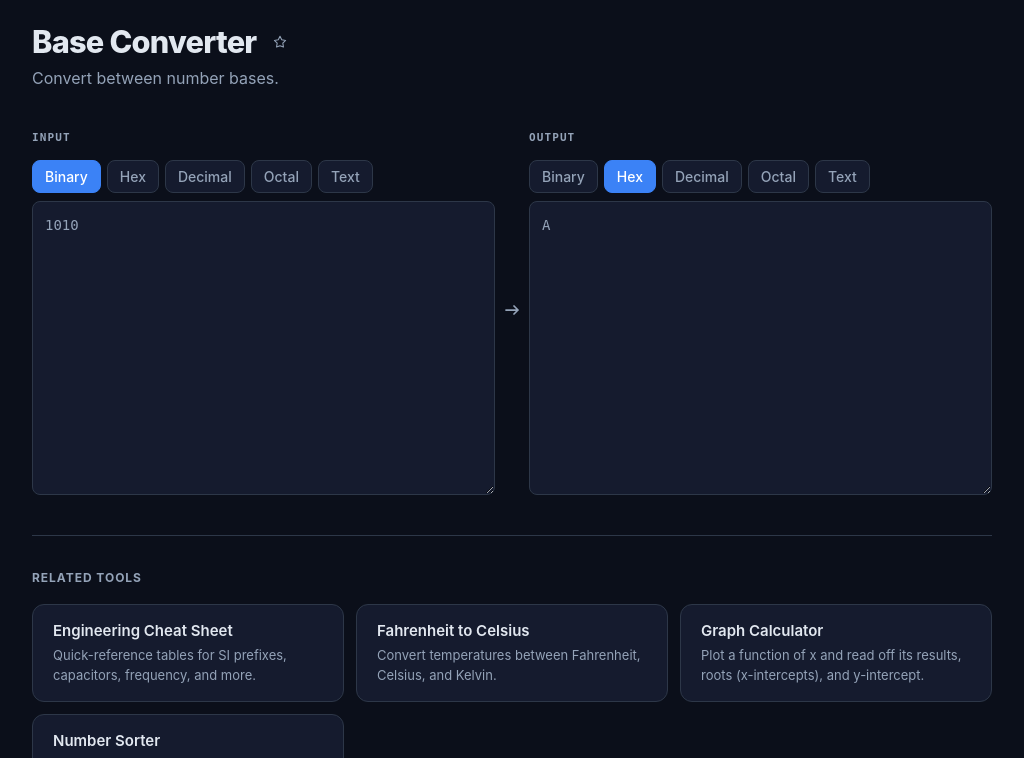
BaseConverter › shows error for invalid binary input
The image size is (1024, 758).
Click the button "Binary" below "Input" at (66, 176), box [32,160,101,193]
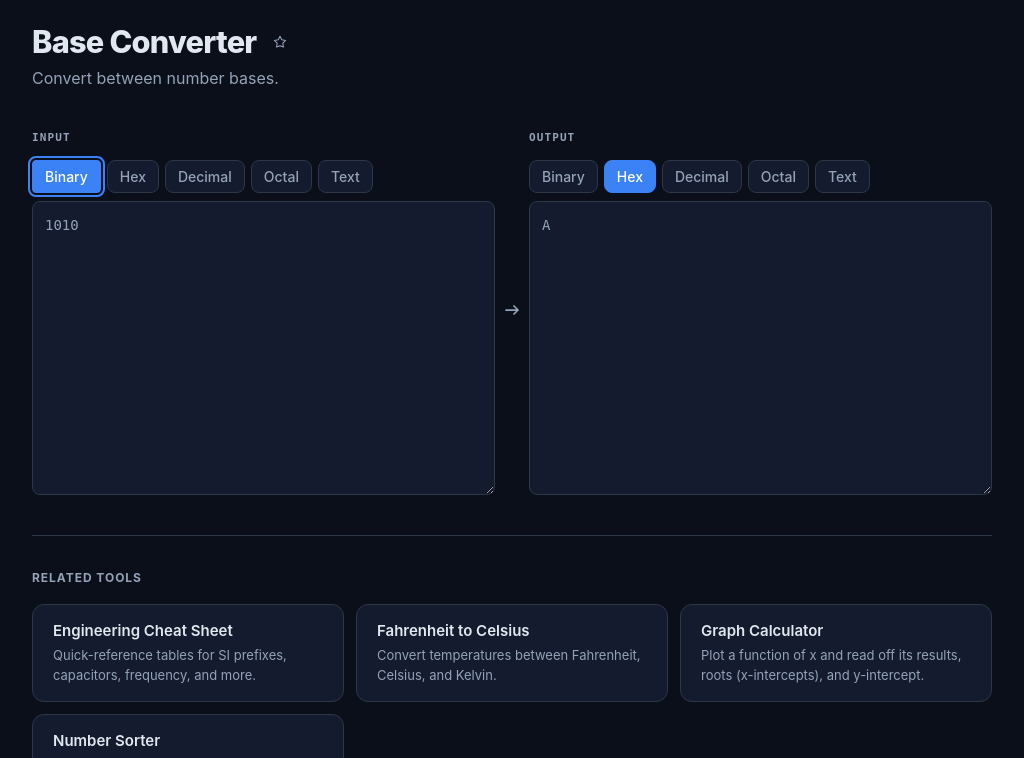
Click the button "Decimal" below "Output" at (702, 176), box [662,160,742,193]
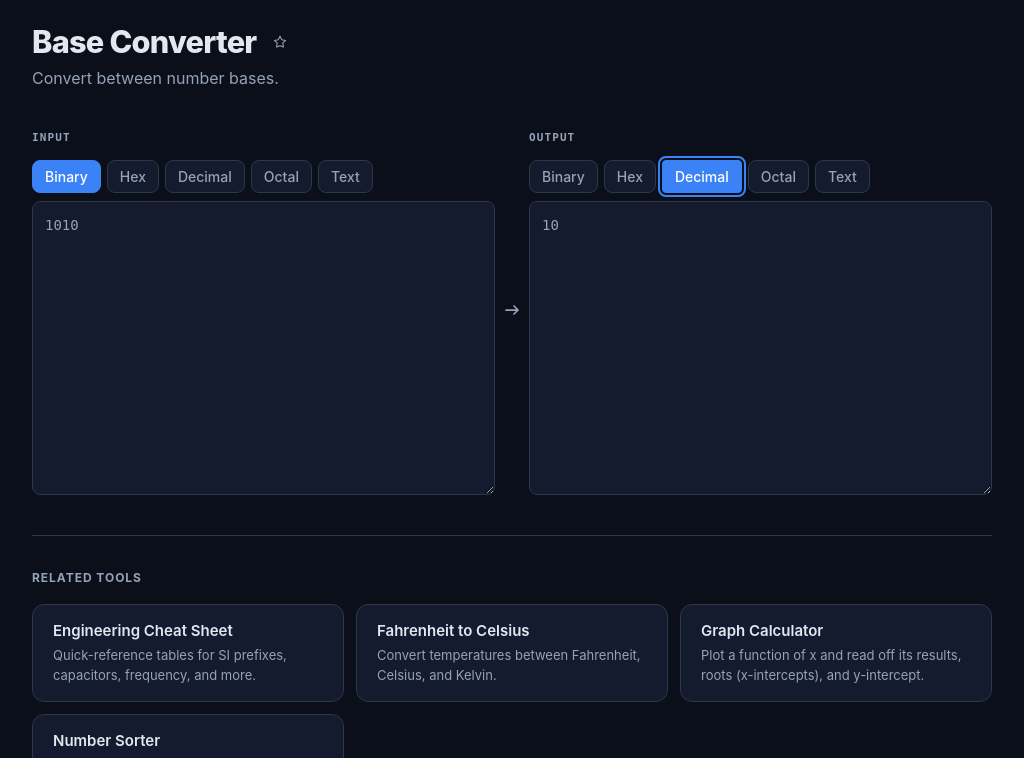
Type "9" into the text box named "input" at (264, 348), box [32,201,495,495]
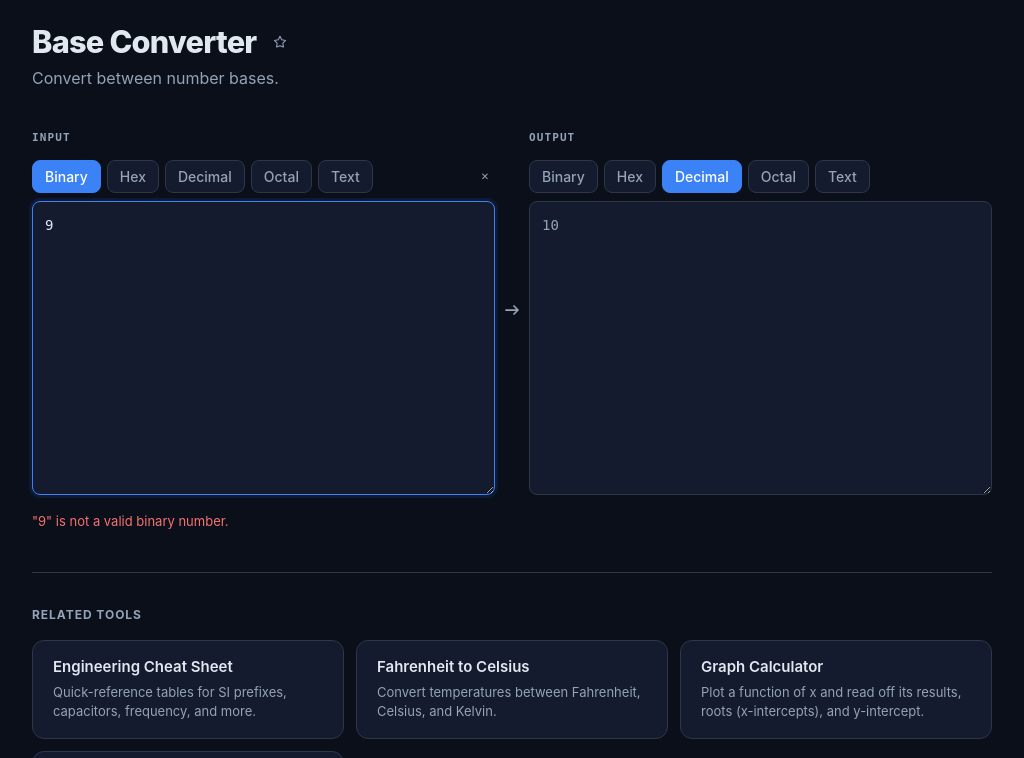
Result: the message "\"9\" is not a valid binary number." is shown at [32,511,229,532]
